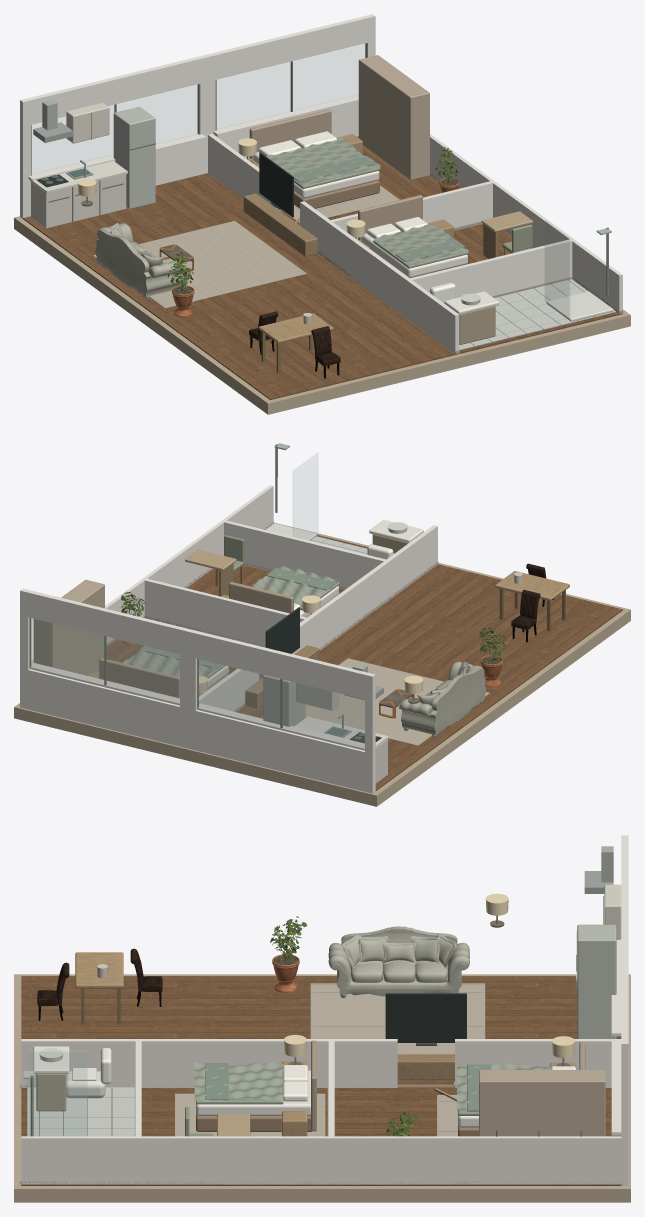
File: buy-showroom.glb
3 views of the same model, one above another, from view 1: azimuth 30°, elevation 25°; view 2: azimuth 150°, elevation 25°; view 3: azimuth 270°, elevation 25° (orthographic). The views are drawn at different scales.
Visible parts, largest first — view 1: 现代简约两居室案例, sofa_03, dining_chair_02; view 2: 现代简约两居室案例, sofa_03, dining_chair_02; view 3: 现代简约两居室案例, sofa_03, dining_chair_02 (×2), potted_plant_01_leaves, potted_plant_01_pot.
Part boxes in pixels (left/top/right/bottom): 现代简约两居室案例: left=14, top=14, right=630, bottom=414; sofa_03: left=95, top=223, right=182, bottom=299; dining_chair_02: left=311, top=326, right=340, bottom=378; 现代简约两居室案例: left=14, top=443, right=630, bottom=806; sofa_03: left=399, top=661, right=485, bottom=737; dining_chair_02: left=511, top=590, right=540, bottom=642; 现代简约两居室案例: left=14, top=835, right=630, bottom=1202; sofa_03: left=328, top=926, right=469, bottom=998; dining_chair_02 (×2): left=37, top=948, right=162, bottom=1020; potted_plant_01_leaves: left=270, top=916, right=307, bottom=957; potted_plant_01_pot: left=272, top=954, right=299, bottom=992.
Size of the model in its own units: 8.44 by 2.85 by 10.24.
65 materials, 13 textured.
